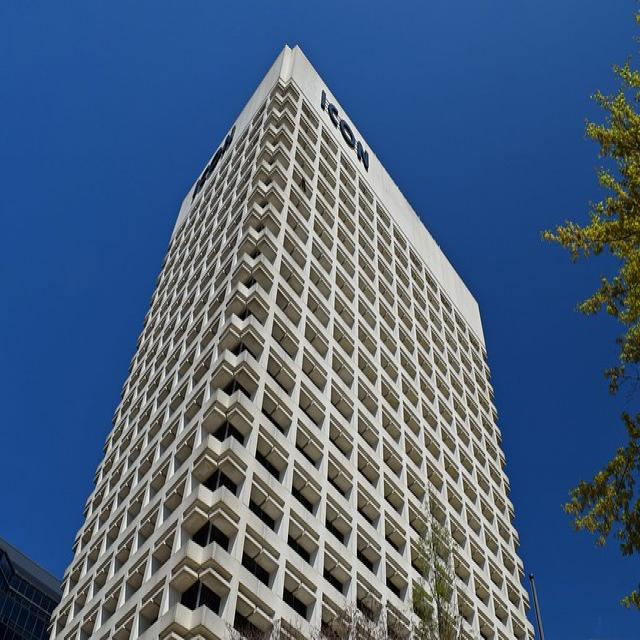Normal_building: (43, 39, 537, 634)
